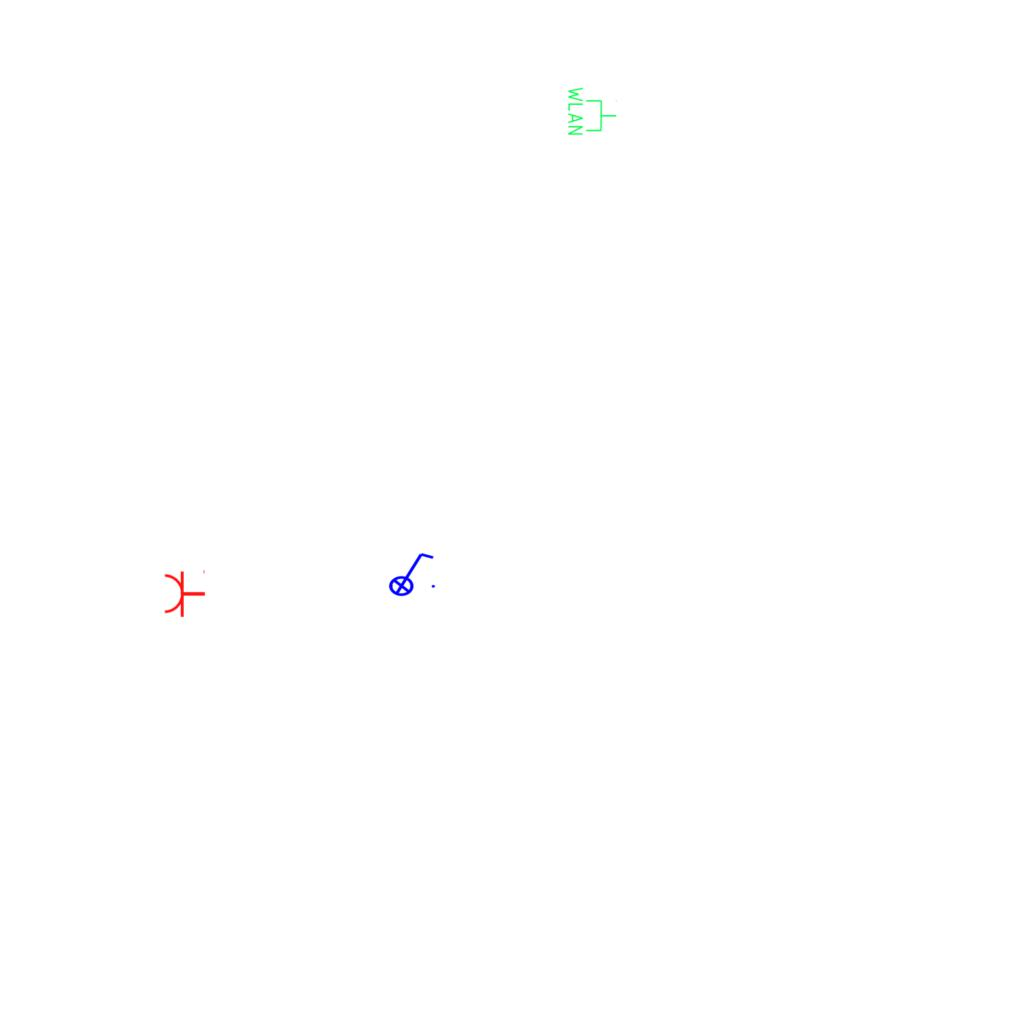Ausschalter_beleuchtet: (382, 549, 438, 597)
Schukosteckdose_einfach: (163, 568, 206, 618)
WLAN: (566, 85, 618, 137)
